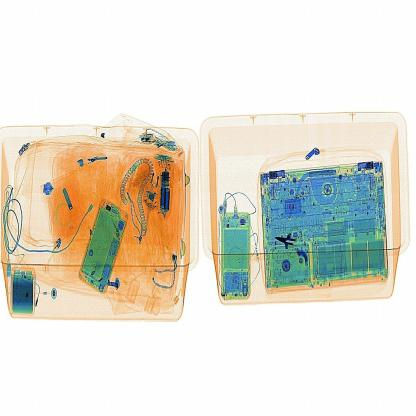gun: (264, 221, 312, 263)
